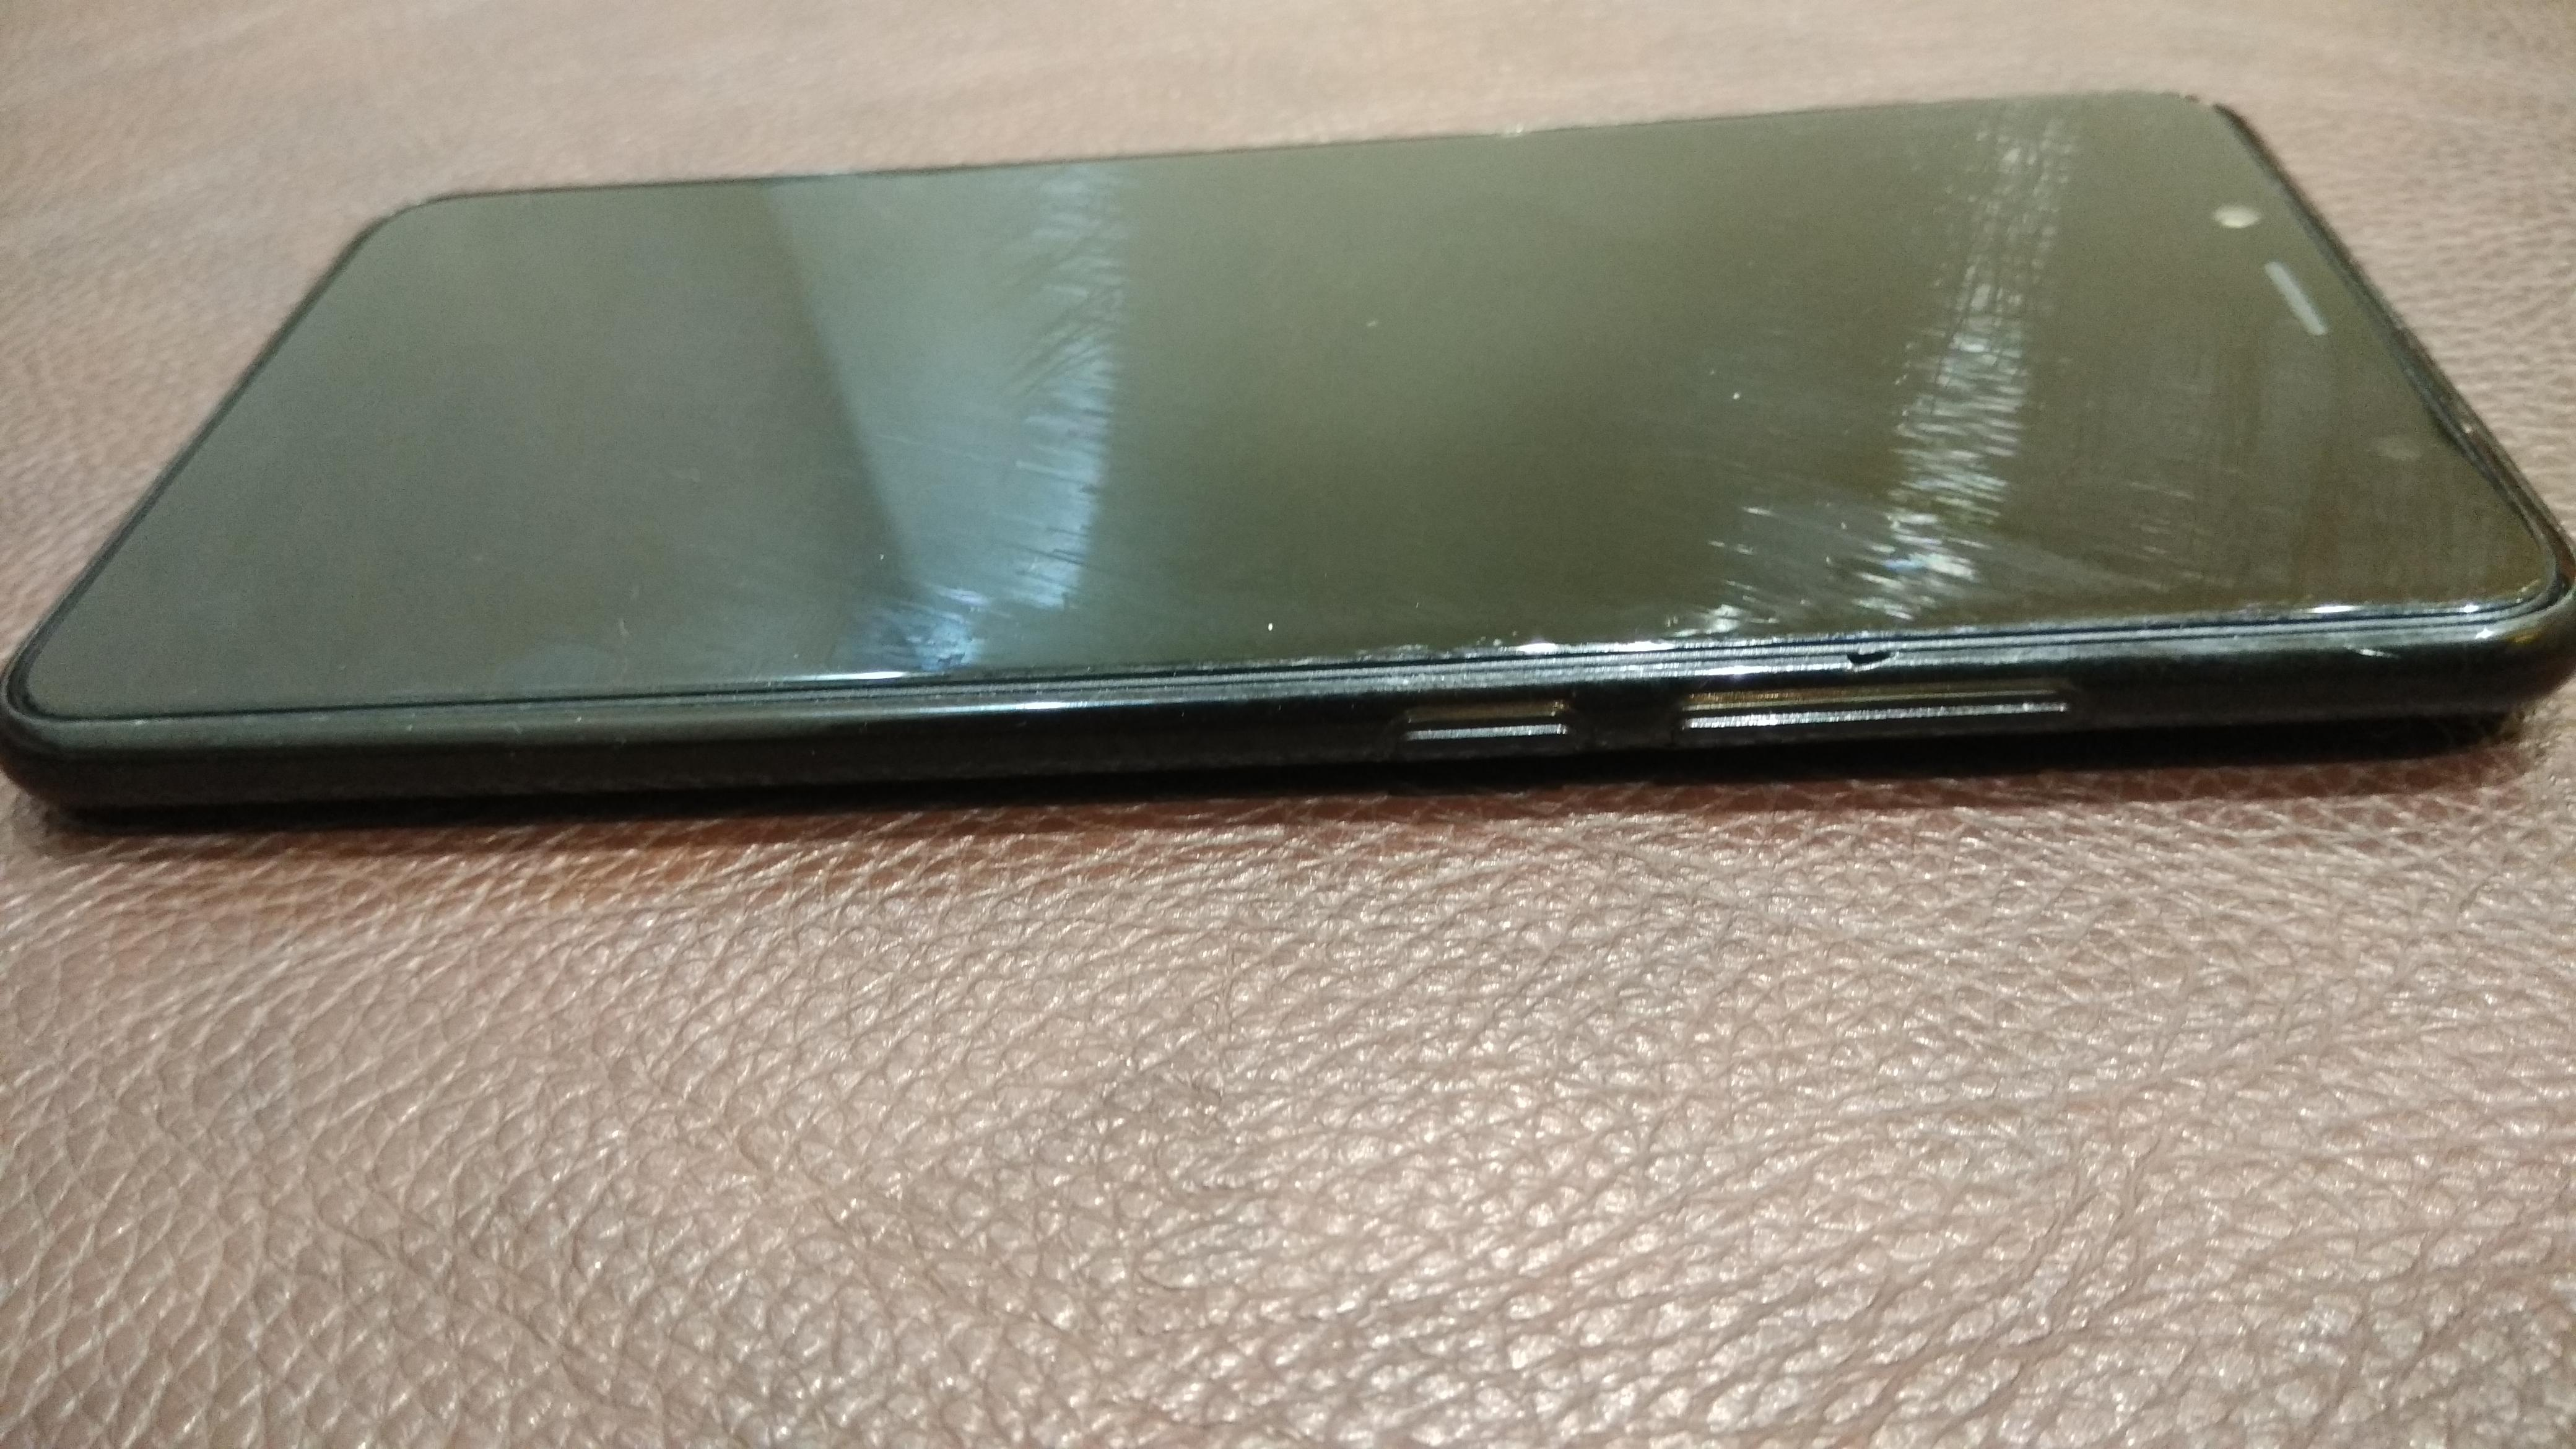Phone: (9, 46, 2576, 892)
